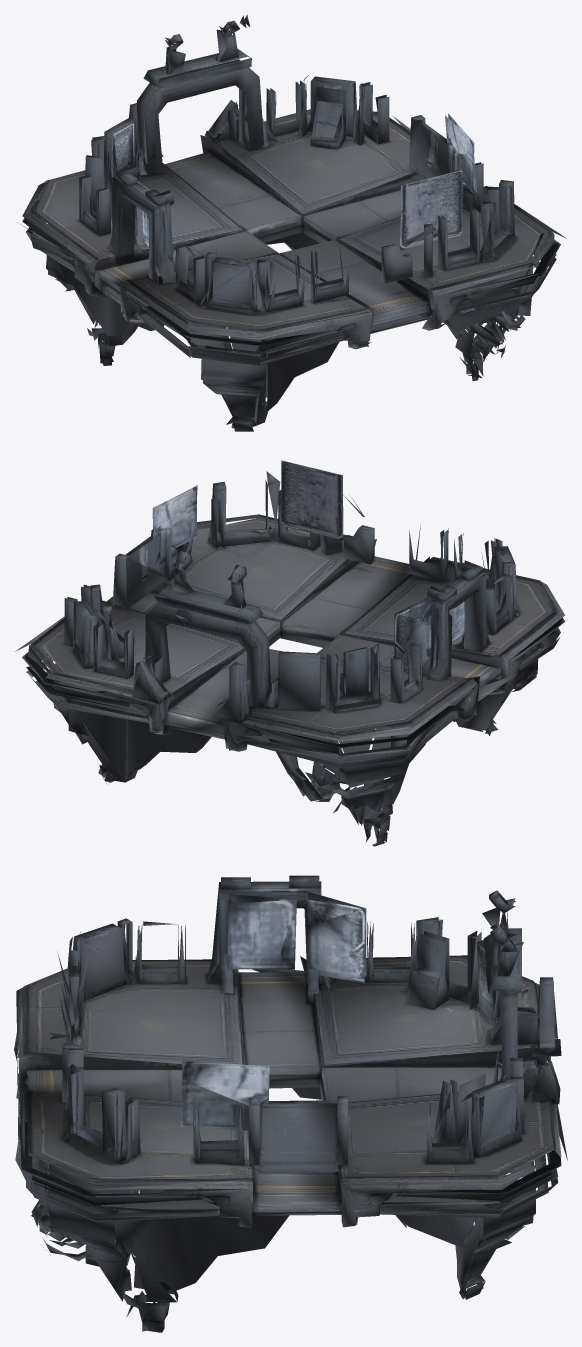
The model's file is cqc-vanguard-sky-v1-lod1.glb.
The picture shows the model from 3 angles, top to bottom: view 1: azimuth 30°, elevation 25°; view 2: azimuth 150°, elevation 25°; view 3: azimuth 270°, elevation 25°; orthographic projection. The views are drawn at different scales.
Parts seen in each view (by area): view 1: cqc-vanguard-sky-v1-lod1; view 2: cqc-vanguard-sky-v1-lod1; view 3: cqc-vanguard-sky-v1-lod1.
Part boxes in pixels (bbox=[...]): cqc-vanguard-sky-v1-lod1: bbox=[17, 14, 566, 431]; cqc-vanguard-sky-v1-lod1: bbox=[15, 460, 565, 846]; cqc-vanguard-sky-v1-lod1: bbox=[14, 875, 567, 1332].
Bounding box in the file's own units: 198 × 132 × 193.
1 material, 1 textured.
